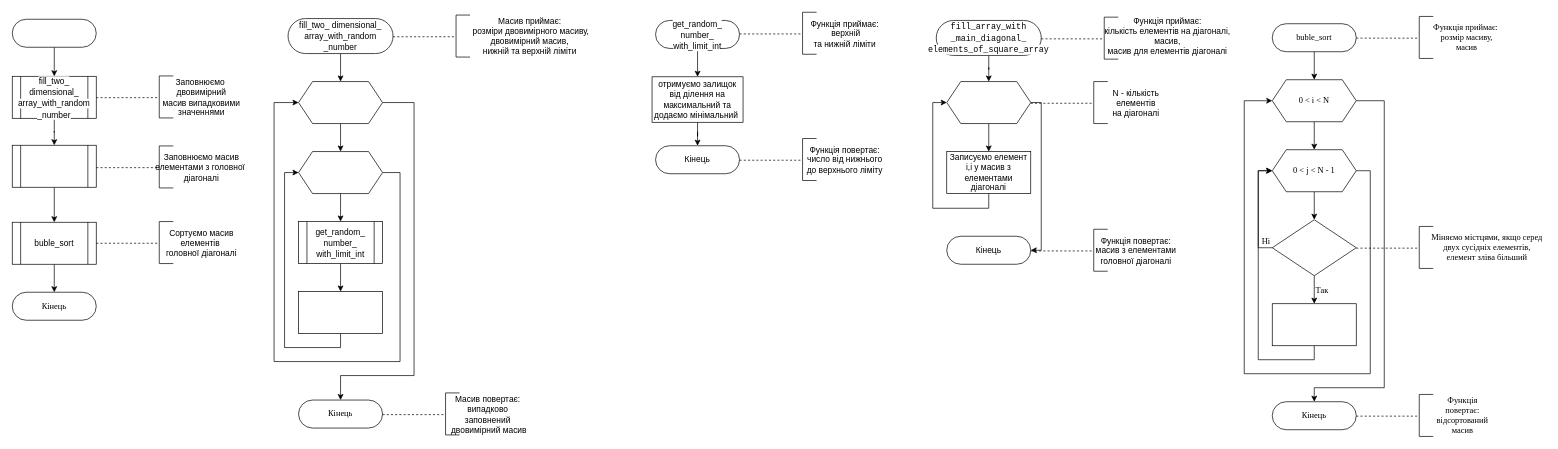
This 1558x449 diagram has some shape labels left out. Each missing label, with the centre of its shape:
"0 <= i < Nx" goes at point (340, 102).
"0 <= j < Ny" goes at point (340, 172).
"fill_array_with_main _diagonal_elements _of_square_array" goes at point (54, 166).
"i <= 0 < N" goes at point (988, 102).
"Обмін місцями елементів масиву" goes at point (1314, 324).
"Отримане значення записується у елемент i, j масиву" goes at point (340, 312).
"Початок" goes at point (54, 33).
"Чи потрібен обмін?" goes at point (1314, 247).
